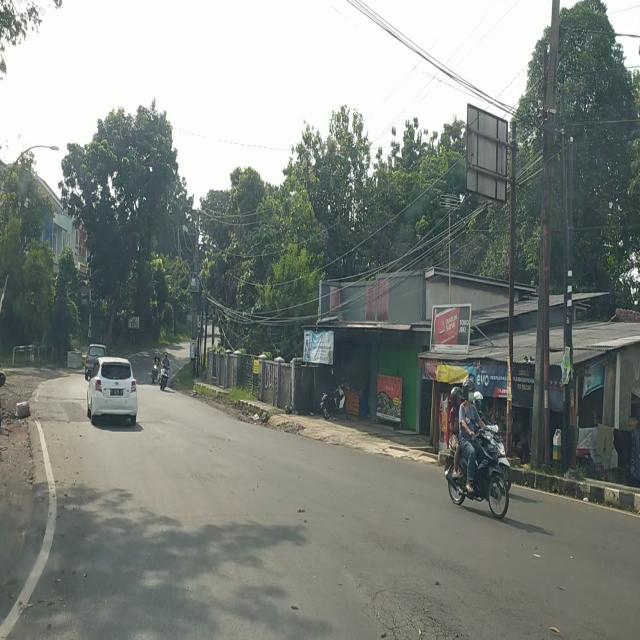Drain Hole: (362, 573, 469, 640)
